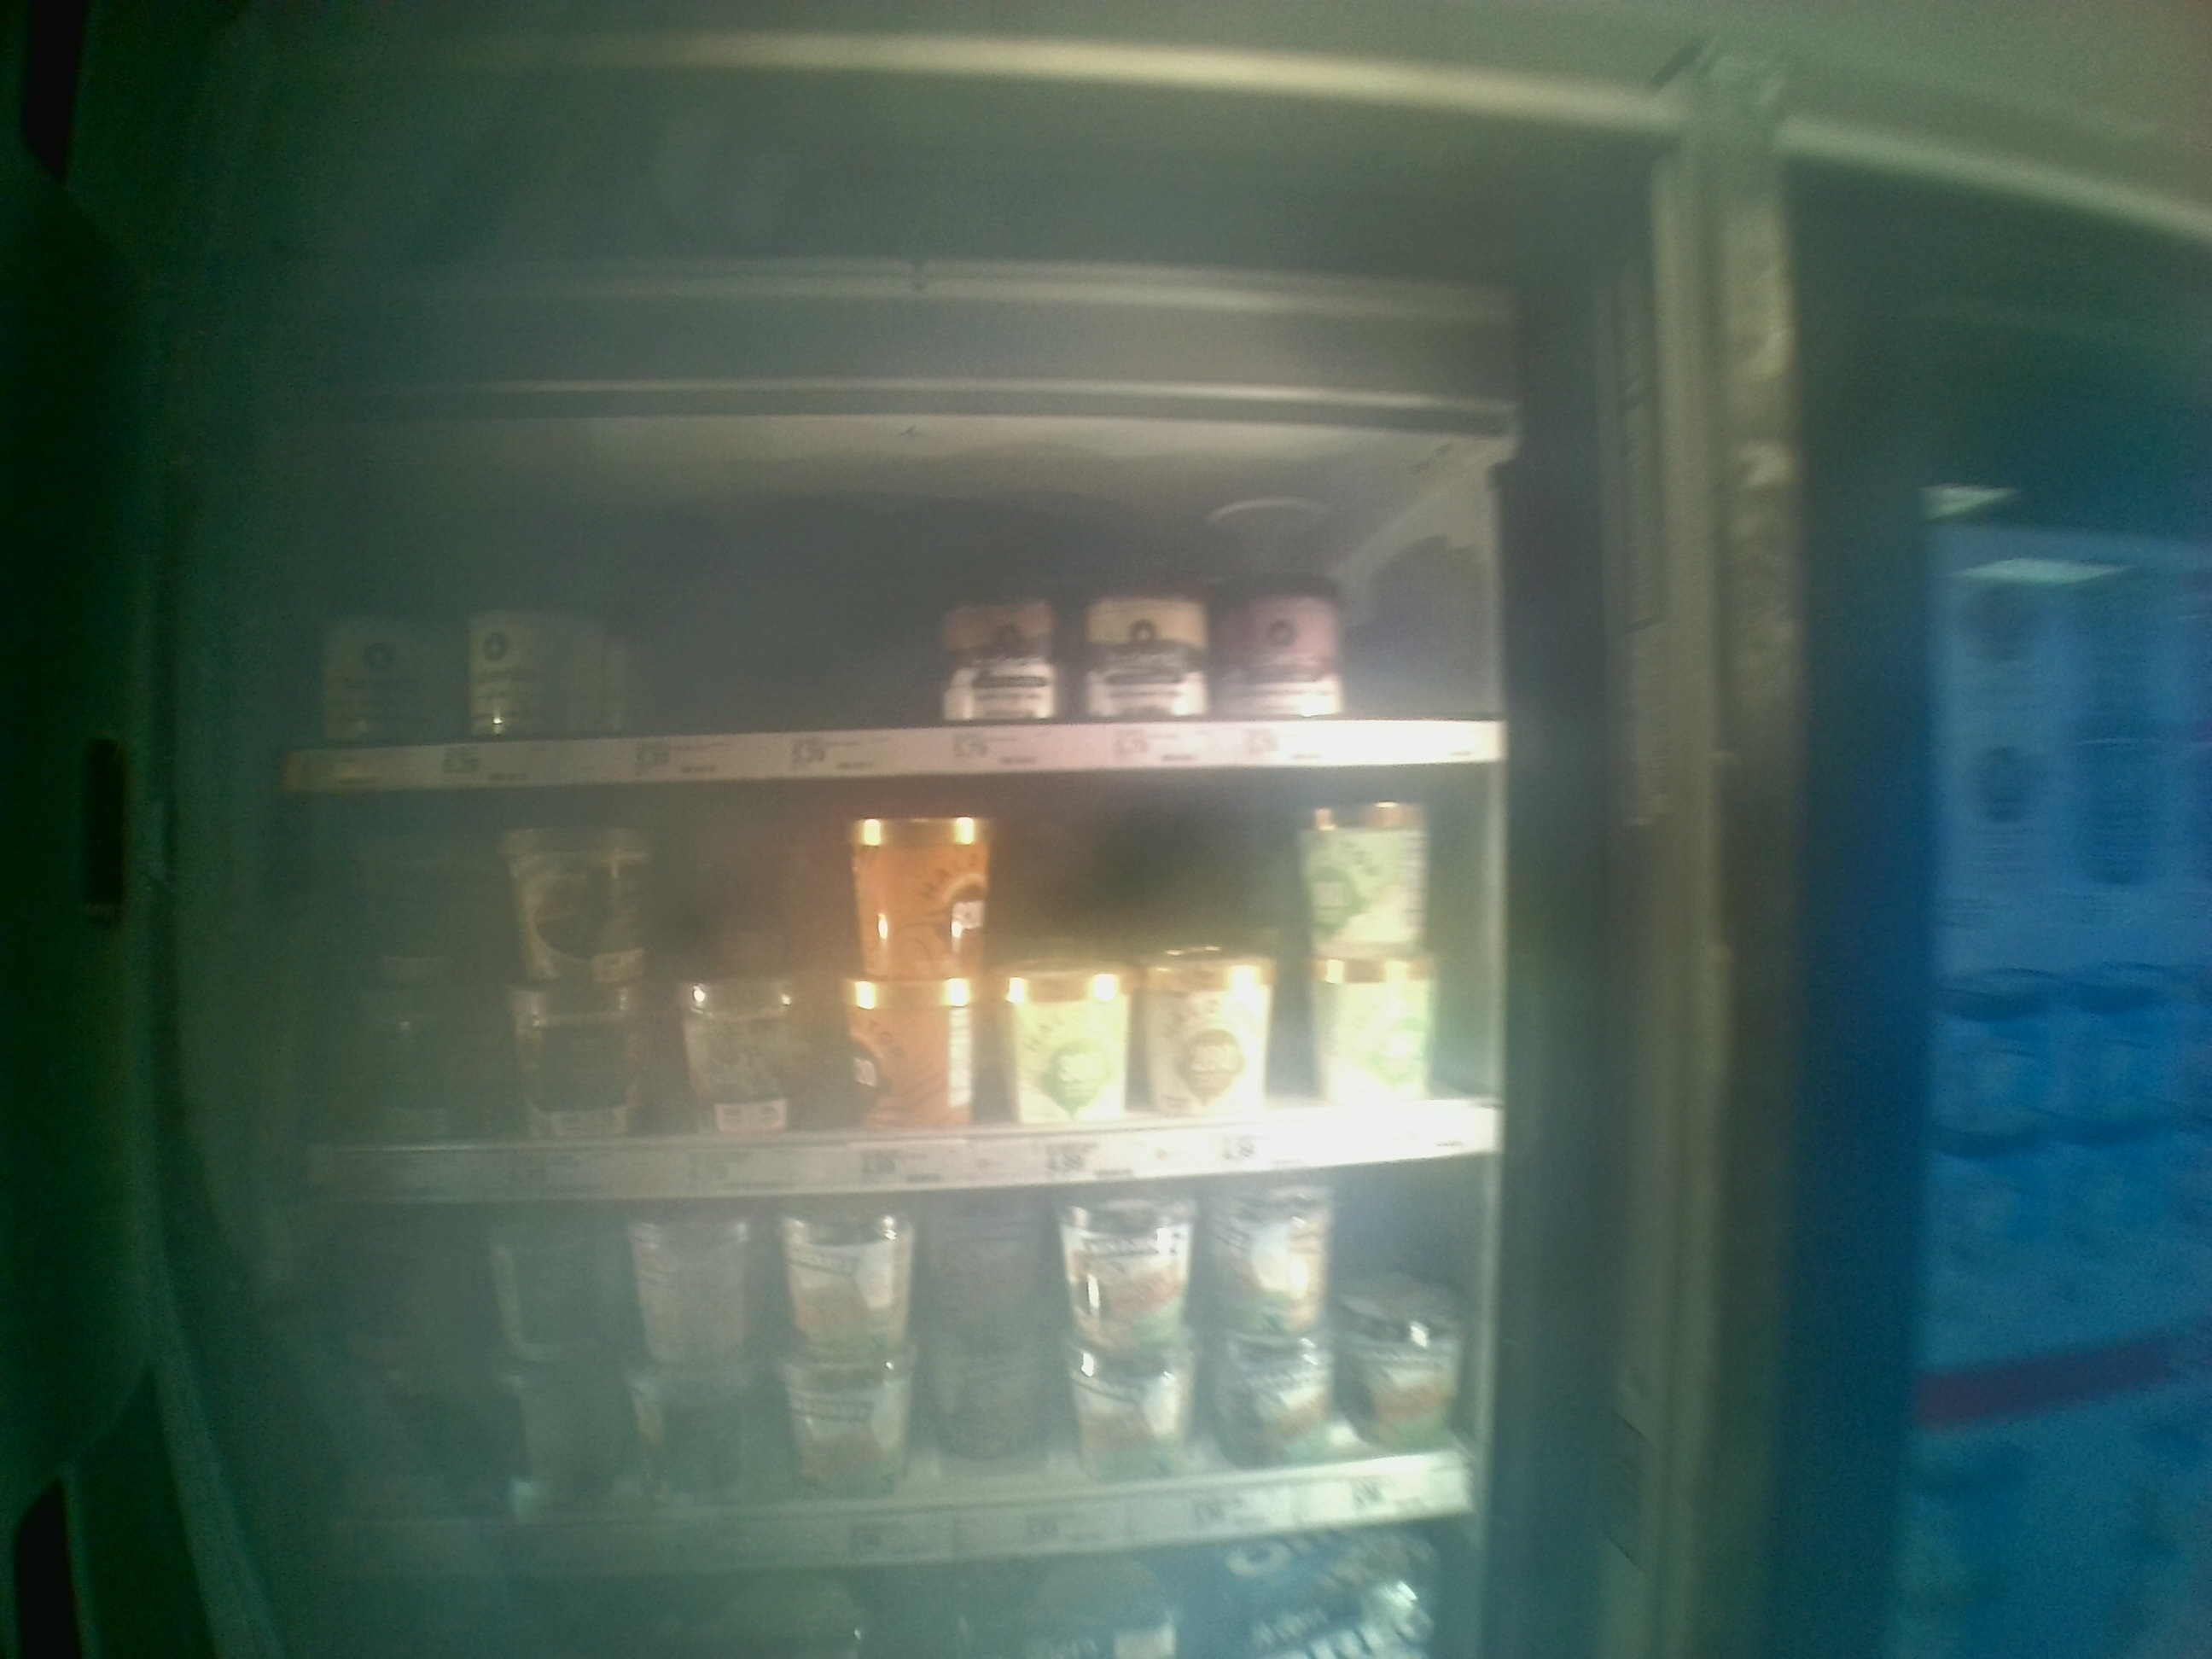shelf: (265, 793, 1505, 1208), (268, 436, 1510, 802)
